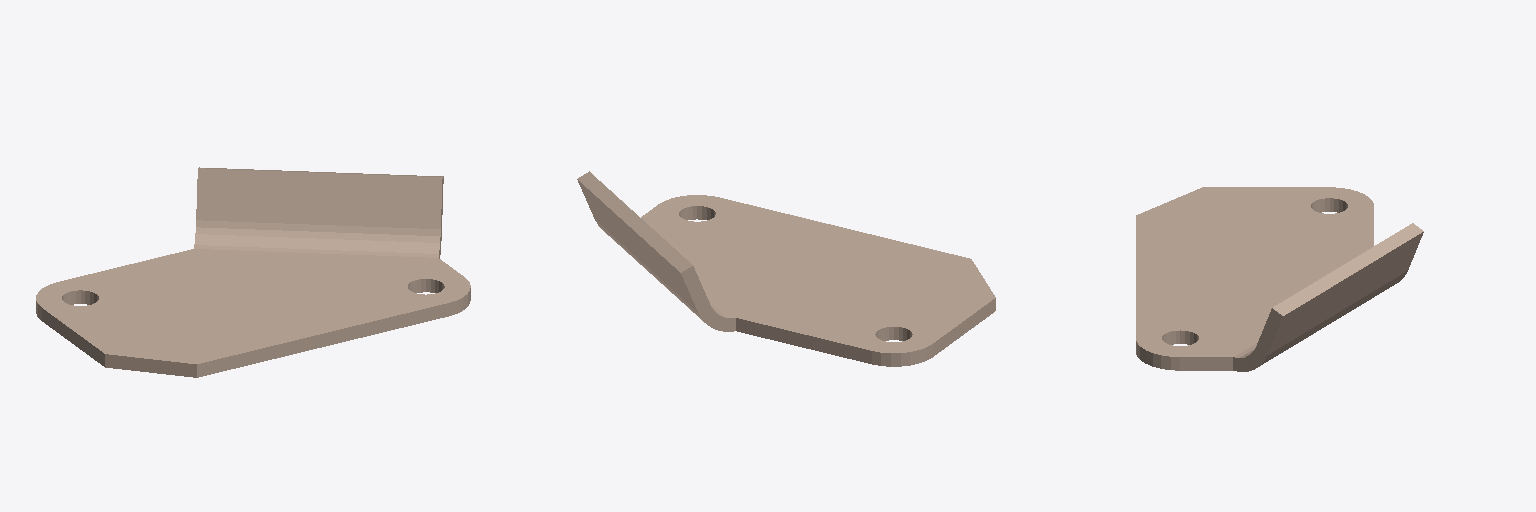
Rendered from secd_prob1.obj.
The picture shows the model from 3 angles: view 1: azimuth 30°, elevation 25°; view 2: azimuth 150°, elevation 25°; view 3: azimuth 270°, elevation 25°; orthographic projection.
Parts seen in each view (by area): view 1: SecD_Prob1; view 2: SecD_Prob1; view 3: SecD_Prob1.
Boxes of the visible parts, box(x1,y1,x2,y2) form: SecD_Prob1: box(36, 167, 470, 377); SecD_Prob1: box(577, 171, 995, 366); SecD_Prob1: box(1136, 187, 1423, 371).
Size of the model in its own units: 0.1174 by 0.022 by 0.0774.